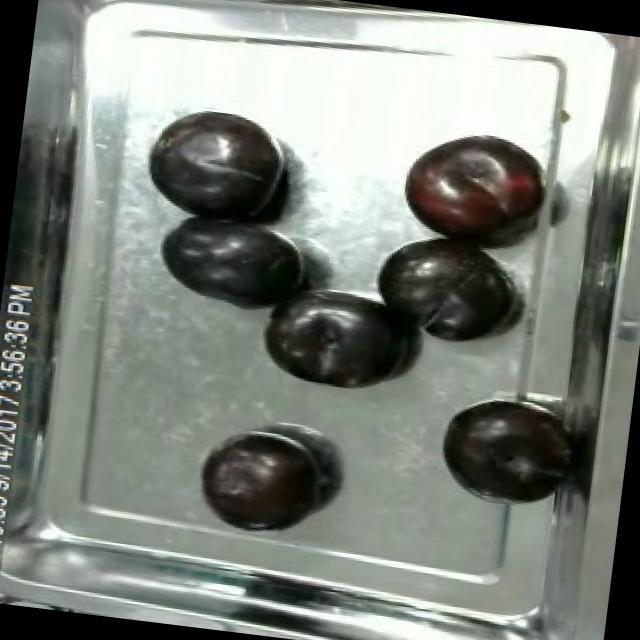Fruit: (135, 98, 303, 238), (362, 220, 522, 357), (390, 123, 552, 258), (423, 387, 580, 518), (250, 278, 416, 401), (148, 202, 312, 320), (192, 428, 330, 540)
